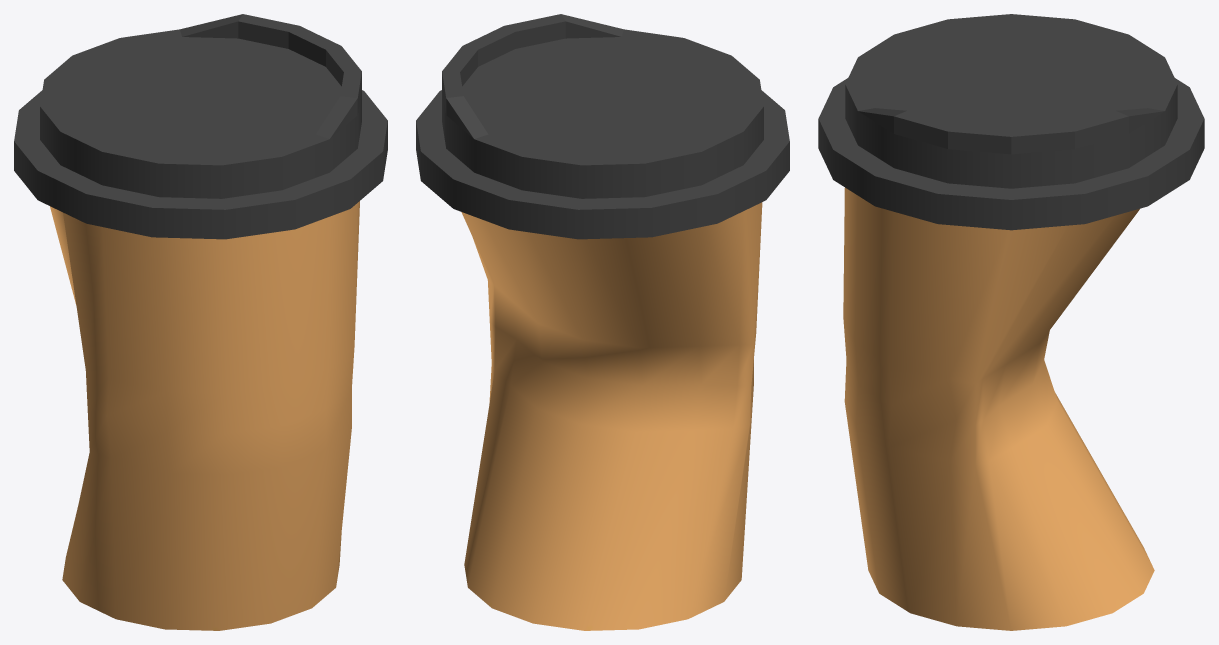
File: CrushedCoffeeCup.fbx
3 views of the same model, side by side, from view 1: azimuth 30°, elevation 25°; view 2: azimuth 150°, elevation 25°; view 3: azimuth 270°, elevation 25° (orthographic). The views are drawn at different scales.
Visible parts, largest first — view 1: CrushedCoffeeCup; view 2: CrushedCoffeeCup; view 3: CrushedCoffeeCup.
Part boxes in pixels (bbox=[...]): CrushedCoffeeCup: bbox=[14, 14, 387, 630]; CrushedCoffeeCup: bbox=[416, 14, 789, 630]; CrushedCoffeeCup: bbox=[818, 14, 1204, 630].
Bounding box in the file's own units: 0.5453 × 0.7853 × 0.5453.
Materials: 2 (2 with a texture image).
